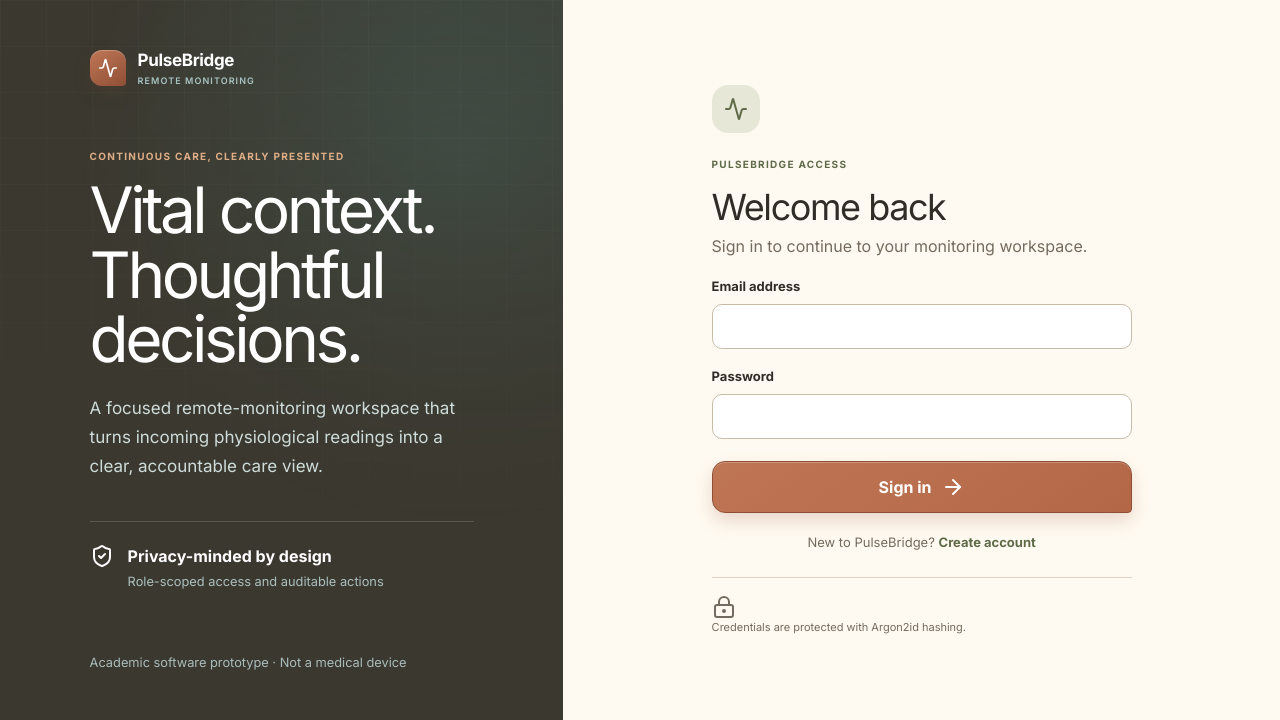
Test: authentication navigation › redirects a successful patient login to the patient dashboard
Type "patient@example.com" into the field labelled "Email address". click: (922, 327)
box: left=712, top=304, right=1132, bottom=349
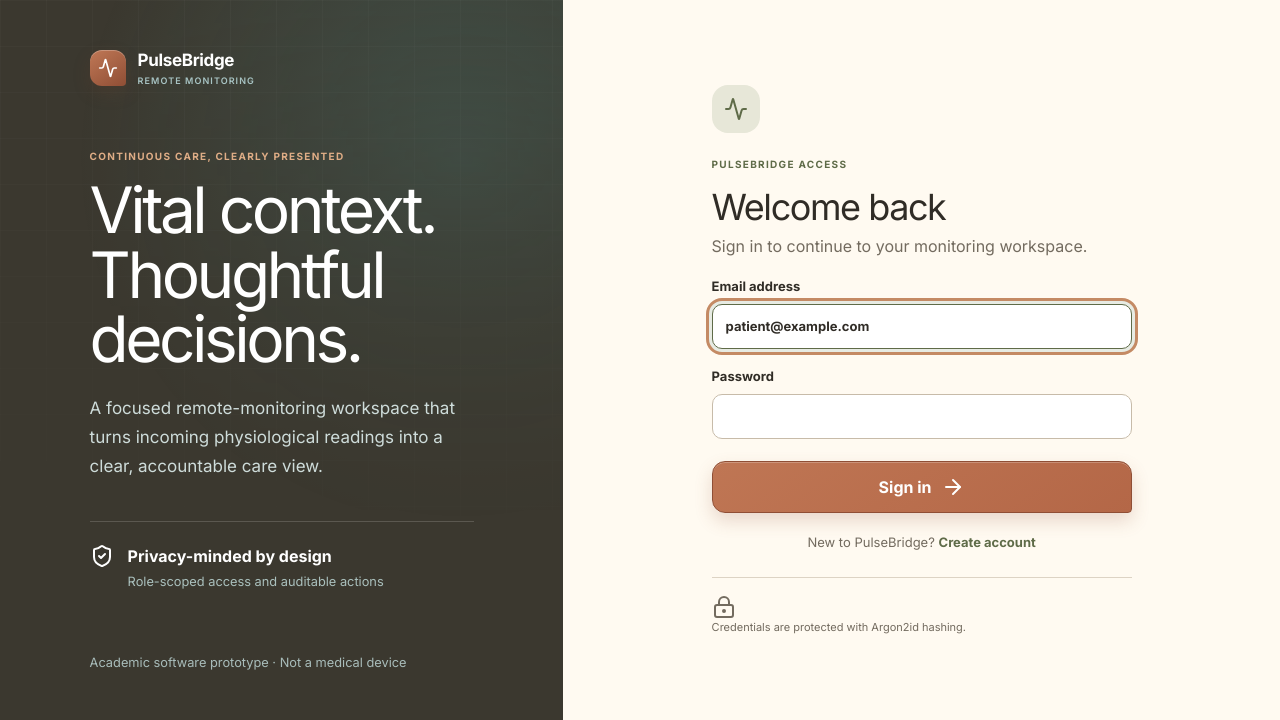
Type "a-secure-password" into the password field labelled "Password". click: (922, 417)
box: left=712, top=394, right=1132, bottom=439
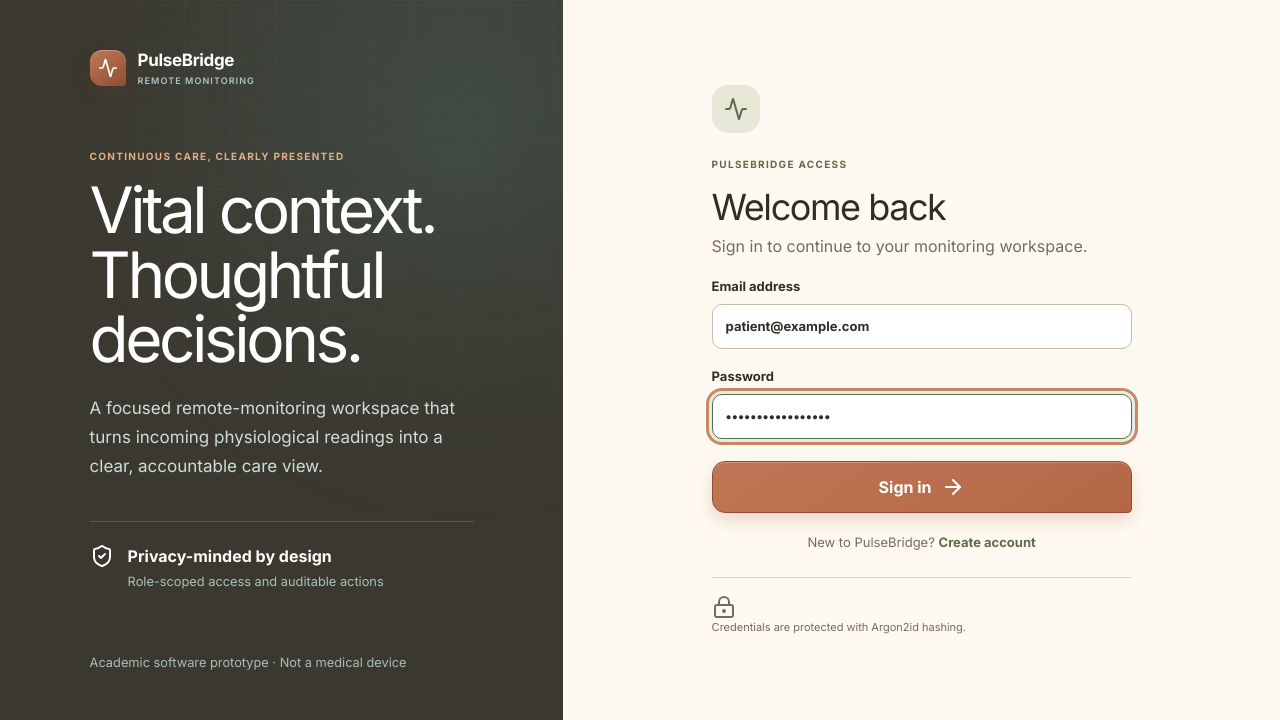
Click the button "Sign in". click: (922, 487)
box: left=712, top=461, right=1132, bottom=513
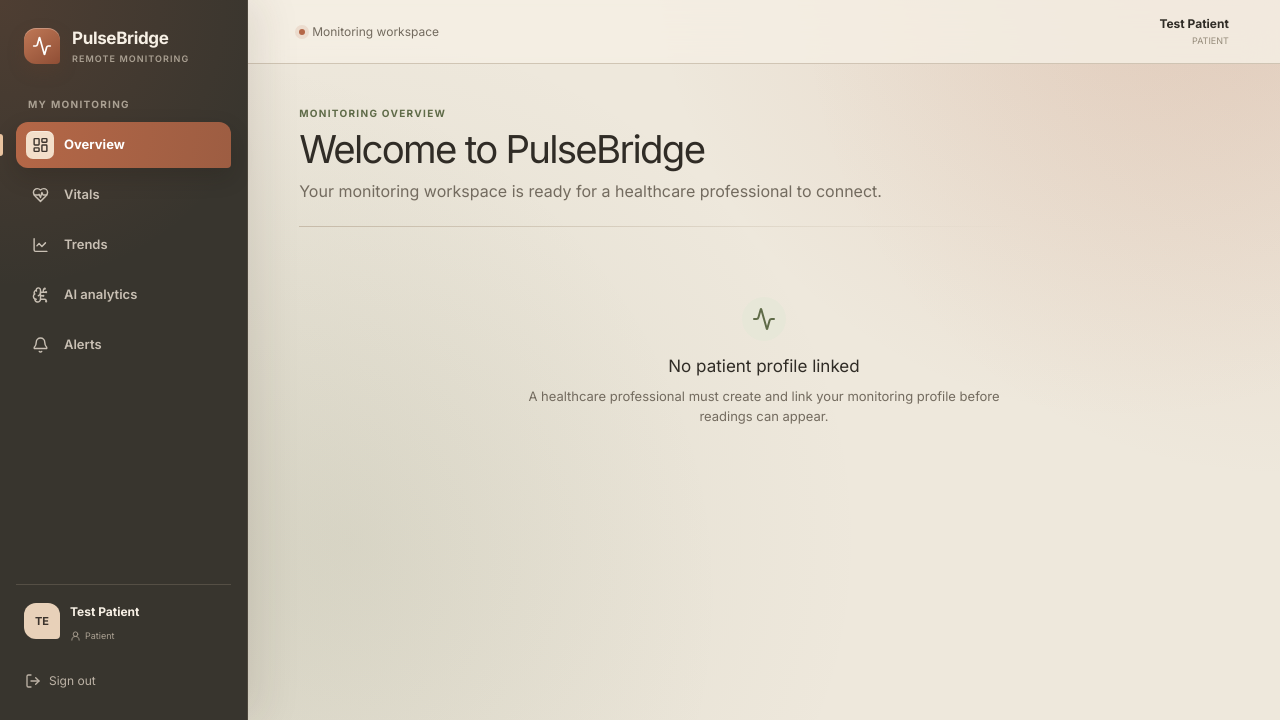
Now the heading "No patient profile linked" is shown, box left=668, top=354, right=860, bottom=380
